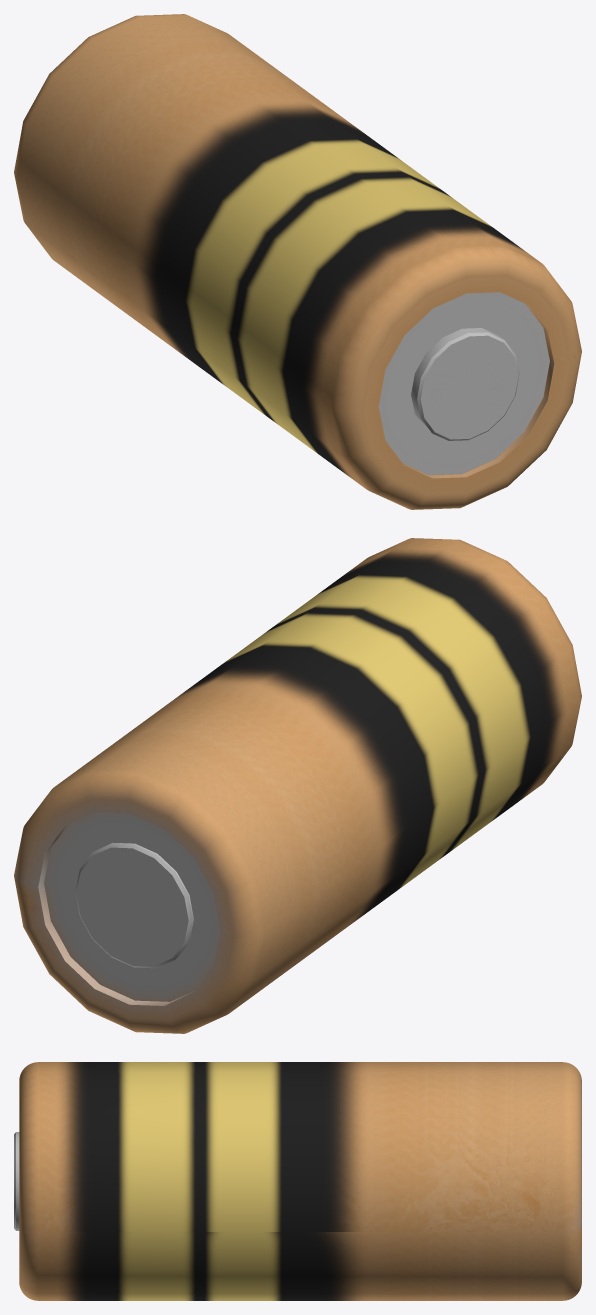
The model's file is Battery.fbx.
The picture shows the model from 3 angles, top to bottom: view 1: azimuth 30°, elevation 25°; view 2: azimuth 150°, elevation 25°; view 3: azimuth 270°, elevation 25°; orthographic projection. The views are drawn at different scales.
Visible parts, largest first — view 1: Battery; view 2: Battery; view 3: Battery.
Boxes of the visible parts, box(x1,y1,x2,y2) form: Battery: box(14, 14, 581, 509); Battery: box(14, 538, 581, 1033); Battery: box(14, 1062, 581, 1300).
Size of the model in its own units: 62 by 62 by 147.
Materials: 1 (1 with a texture image).
